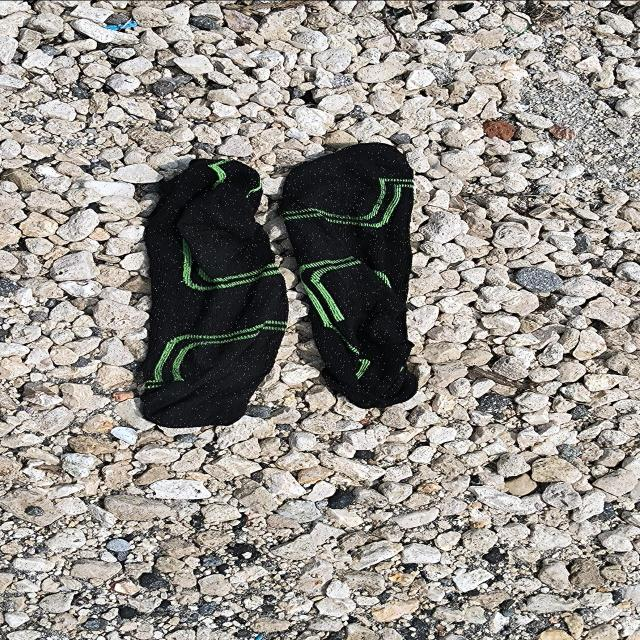textile_waste: (139, 158, 292, 430), (281, 142, 421, 410)
